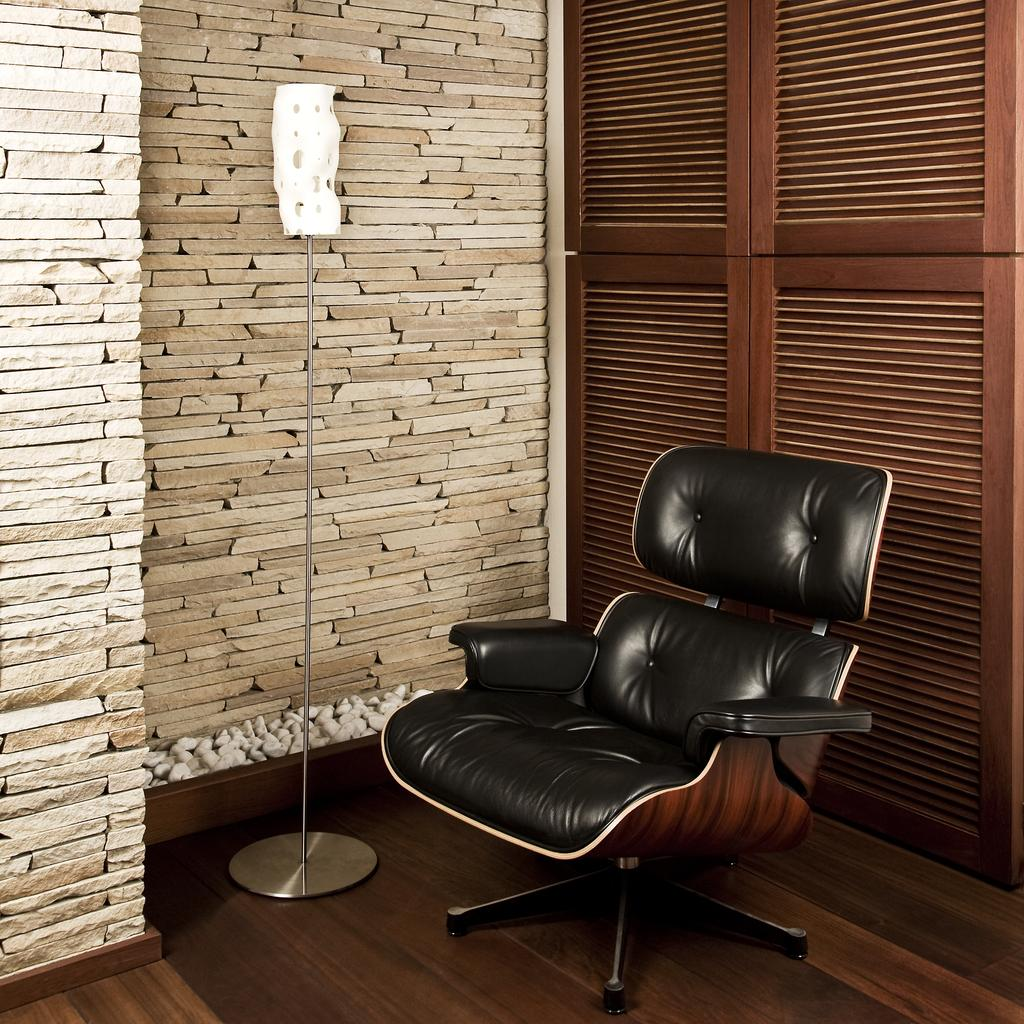Chair: (394, 424, 890, 1010)
